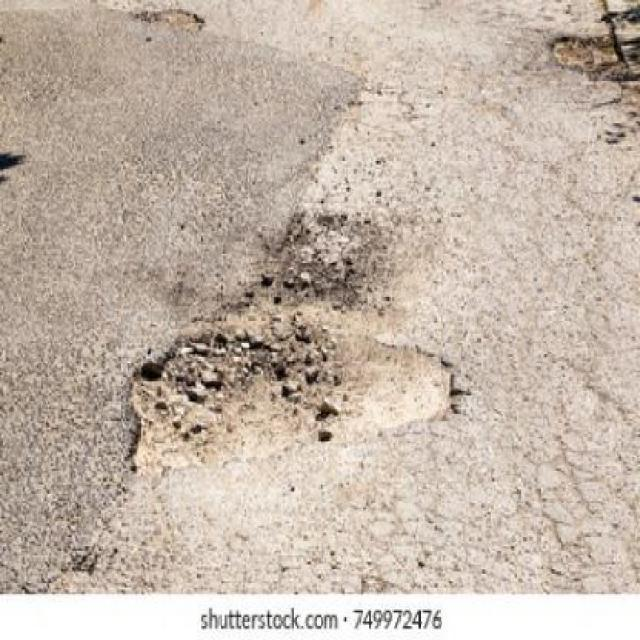Buraco: (113, 318, 479, 484), (542, 32, 629, 84), (130, 6, 207, 37)
